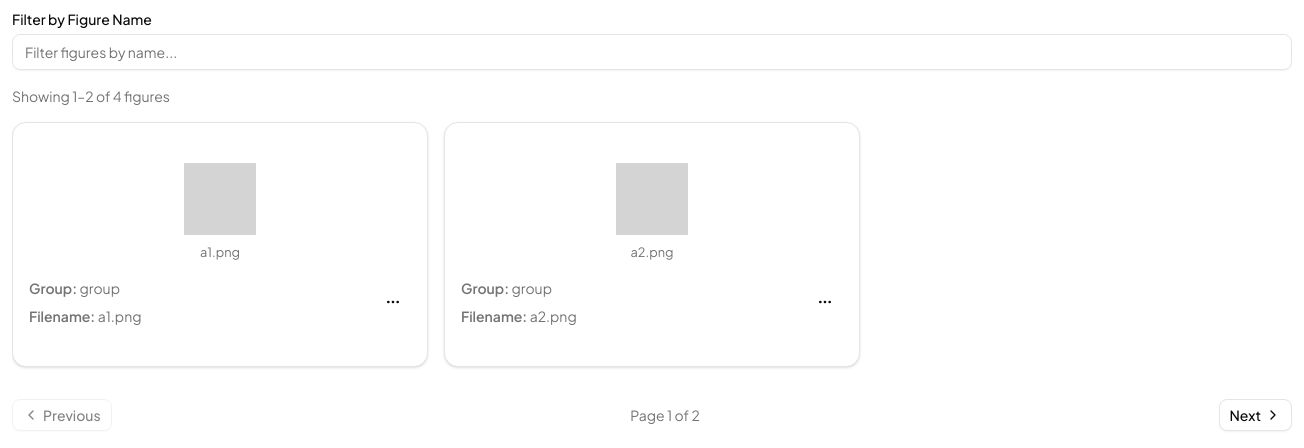
Scenario: FigureGallery › goes back to the first page when the filter changes
The width and height of the screenshot is (1304, 448).
Click the button "Next" at x=1255, y=415, box [1218,399,1292,431]
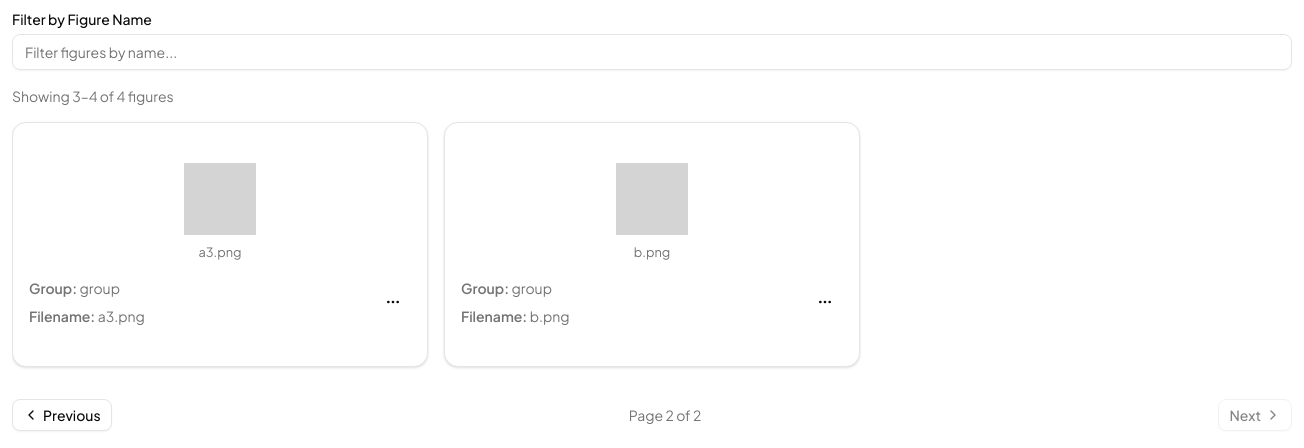
Now the text "Page 2 of 2" is shown, box [629,405,701,425]
Type "^a" into the field labelled "Filter by Figure Name" at x=652, y=52, box [12,34,1292,70]
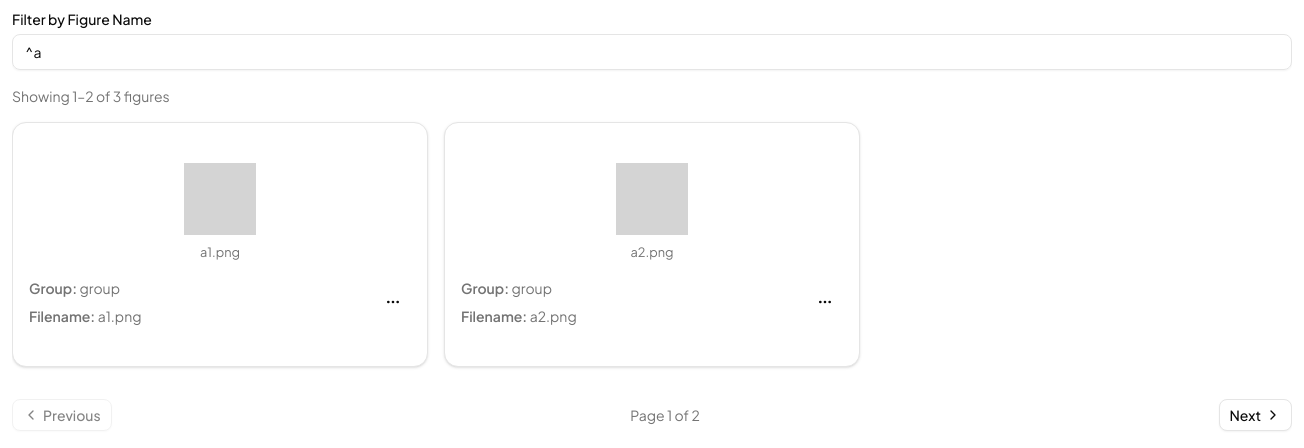
Now the text "Showing 1–2 of 3 figures" is shown, box [12,87,170,105]
Now the text "Page 1 of 2" is shown, box [630,405,700,425]
